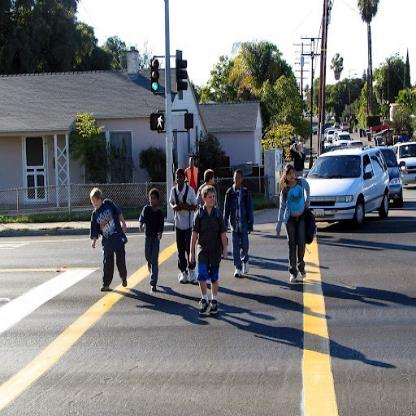Walk: (150, 112, 166, 130)
